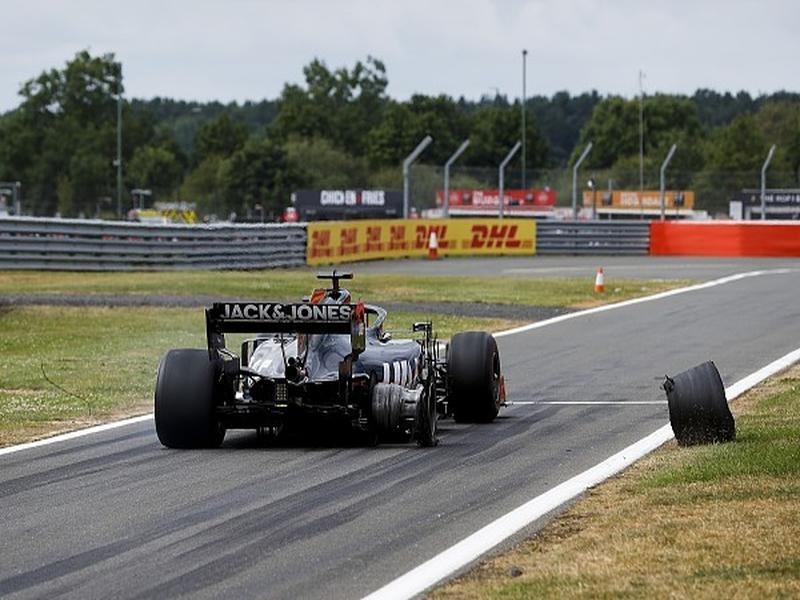f1: (134, 252, 567, 492)
